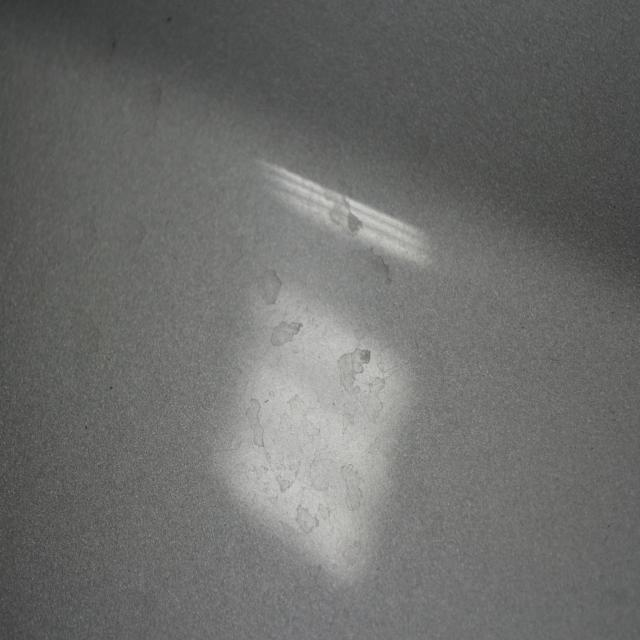water marks: (263, 385, 322, 496), (318, 166, 365, 242), (339, 375, 387, 441), (112, 200, 152, 273), (332, 339, 375, 404), (353, 243, 396, 297), (134, 73, 166, 130), (241, 389, 269, 453), (339, 457, 365, 518), (252, 262, 285, 310), (292, 494, 322, 540), (268, 315, 303, 352), (340, 534, 363, 570)
